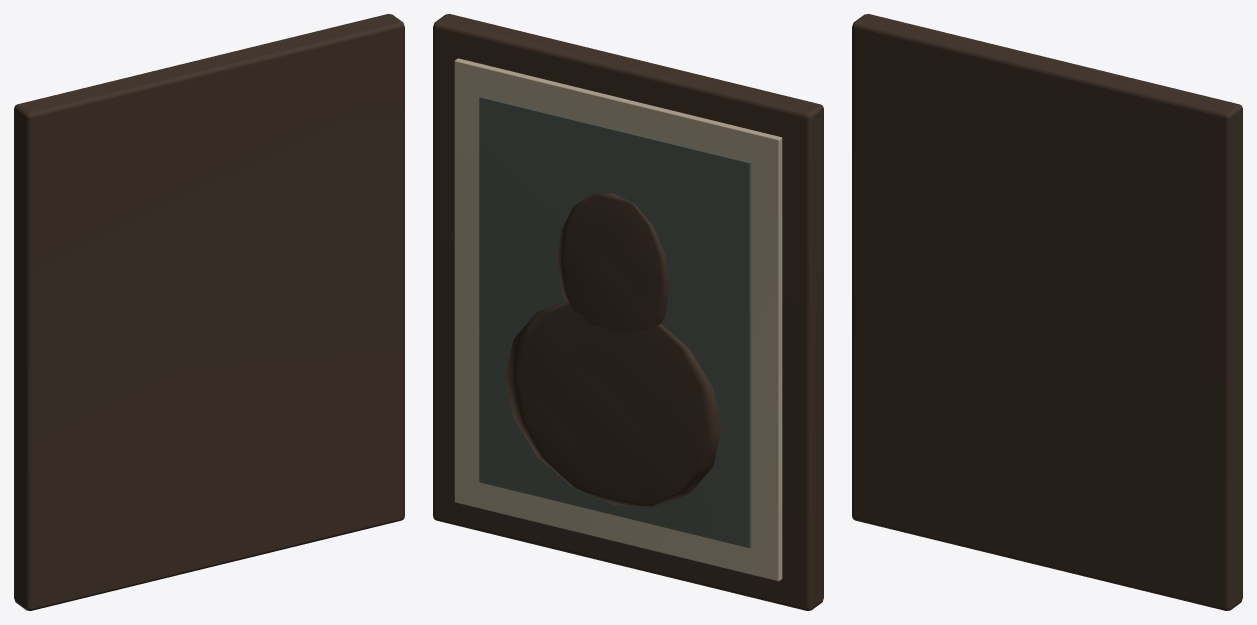
Rendered from prop-portrait-frame-v01.glb.
The picture shows the model from 3 angles, left to right: view 1: azimuth 30°, elevation 25°; view 2: azimuth 150°, elevation 25°; view 3: azimuth 330°, elevation 25°; orthographic projection.
Visible parts, largest first — view 1: portrait-frame; view 2: portrait-frame; view 3: portrait-frame.
Part boxes in pixels (left/top/right/bottom): portrait-frame: left=14, top=14, right=404, bottom=610; portrait-frame: left=433, top=14, right=823, bottom=610; portrait-frame: left=852, top=14, right=1242, bottom=610.
Bounding box in the file's own units: 0.35 × 0.44 × 0.0395.
